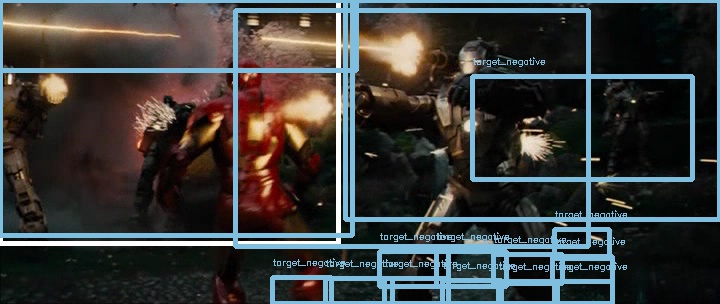person: (227, 52, 262, 93), (226, 52, 261, 93), (228, 52, 263, 93), (227, 51, 262, 92), (227, 53, 262, 94)
target_negative: (598, 51, 720, 156), (396, 229, 552, 281), (56, 184, 165, 219), (330, 269, 407, 286), (549, 64, 628, 77), (201, 269, 610, 270)
